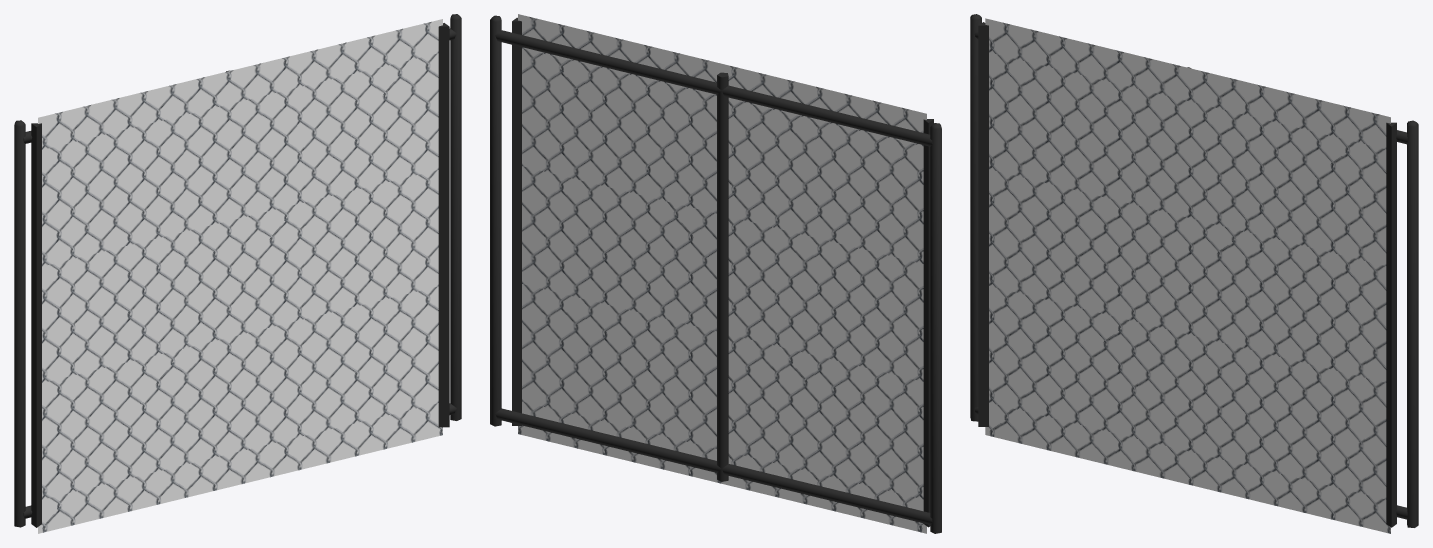
The model's file is Fence_Chain1.FBX.
3 views of the same model, side by side, from view 1: azimuth 30°, elevation 25°; view 2: azimuth 150°, elevation 25°; view 3: azimuth 330°, elevation 25° (orthographic).
Visible parts, largest first — view 1: Plane004, Cylinder004, Cylinder002, Cylinder008, Cylinder001; view 2: Plane004, Cylinder007, Cylinder006, Cylinder004, Cylinder008, Cylinder005, Cylinder002, Cylinder001; view 3: Plane004, Cylinder008, Cylinder002, Cylinder001, Cylinder004.
Part boxes in pixels (x1,y1,x2,y2): Plane004: [38, 19, 442, 533]; Cylinder004: [14, 120, 25, 527]; Cylinder002: [438, 23, 449, 427]; Cylinder008: [450, 14, 461, 420]; Cylinder001: [31, 123, 41, 527]; Plane004: [518, 14, 926, 533]; Cylinder007: [495, 30, 932, 146]; Cylinder006: [495, 408, 932, 524]; Cylinder004: [930, 123, 941, 533]; Cylinder008: [490, 15, 501, 426]; Cylinder005: [717, 72, 728, 481]; Cylinder002: [512, 17, 521, 425]; Cylinder001: [923, 119, 933, 527]; Plane004: [985, 18, 1390, 533]; Cylinder008: [1407, 120, 1418, 527]; Cylinder002: [1386, 122, 1396, 527]; Cylinder001: [978, 22, 988, 426]; Cylinder004: [970, 14, 981, 421].
Bounding box in the file's own units: 129 × 115 × 5.15.
Materials: 2 (1 with a texture image).
